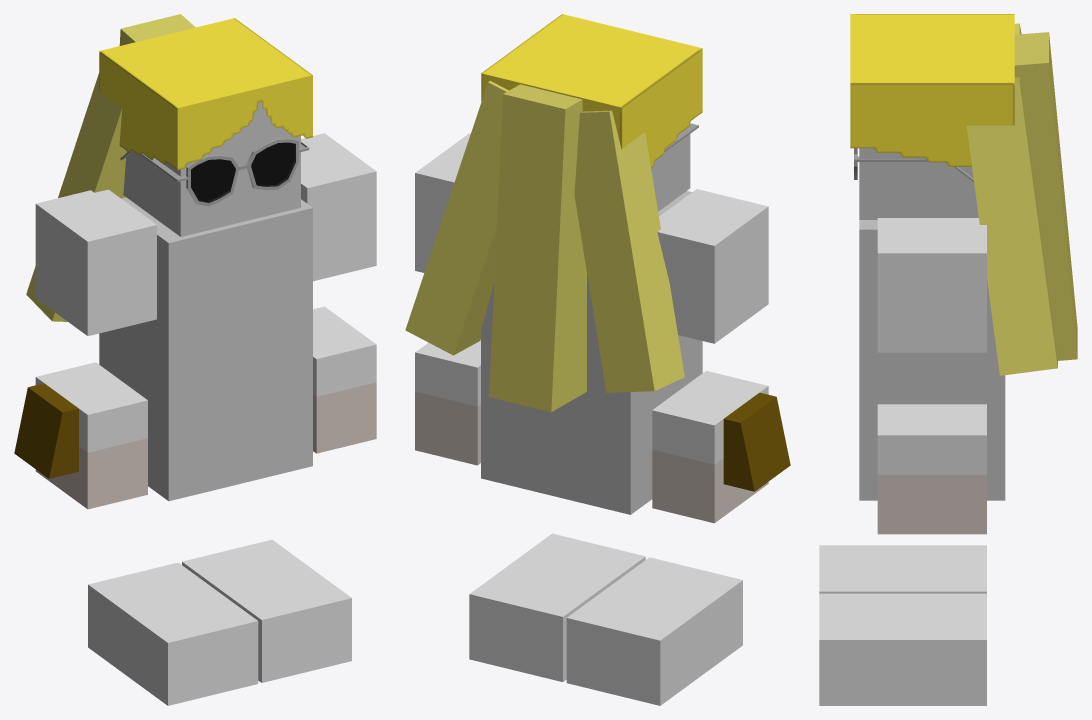
File: gvnr.fbx
The picture shows the model from 3 angles, left to right: view 1: azimuth 30°, elevation 25°; view 2: azimuth 150°, elevation 25°; view 3: azimuth 270°, elevation 25°; orthographic projection. The views are drawn at different scales.
Visible parts, largest first — view 1: Blazer, Hair_Overlay, Foot_R, Shoulder_R, Foot_L, Hand_R, Head, Shoulder_L, Hand_L, Twintail_R, Grappling_Hook_Pouch, Glasses_Glass (+2 smaller); view 2: Ponytail, Twintail_R, Blazer, Foot_R, Hair_Overlay, Foot_L, Twintail_L, Shoulder_R, Hand_R, Hand_L, Grappling_Hook_Pouch, Shoulder_L (+1 smaller); view 3: Hair_Overlay, Foot_L, Twintail_L, Shoulder_L, Hand_L, Blazer, Ponytail, Foot_R, Head, Glasses.
Boxes of the visible parts, x1,y1,x2,y2 form: Blazer: [99, 197, 312, 501]; Hair_Overlay: [99, 18, 312, 170]; Foot_R: [88, 562, 258, 705]; Shoulder_R: [35, 189, 156, 335]; Foot_L: [182, 539, 351, 682]; Hand_R: [35, 362, 147, 509]; Head: [123, 101, 300, 236]; Shoulder_L: [301, 133, 376, 281]; Hand_L: [313, 306, 376, 453]; Twintail_R: [26, 73, 126, 321]; Grappling_Hook_Pouch: [14, 383, 78, 478]; Glasses_Glass: [191, 142, 295, 202]; Ponytail: [489, 84, 586, 412]; Twintail_R: [574, 110, 684, 392]; Blazer: [481, 191, 702, 514]; Foot_R: [566, 557, 742, 705]; Hair_Overlay: [481, 14, 702, 168]; Foot_L: [469, 533, 645, 681]; Twintail_L: [405, 81, 508, 355]; Shoulder_R: [657, 189, 768, 343]; Hand_R: [652, 370, 768, 523]; Hand_L: [415, 339, 480, 465]; Grappling_Hook_Pouch: [723, 392, 790, 491]; Shoulder_L: [415, 133, 470, 272]; Hair_Overlay: [850, 14, 1014, 166]; Foot_L: [819, 593, 986, 705]; Twintail_L: [966, 77, 1057, 375]; Shoulder_L: [877, 218, 986, 352]; Hand_L: [877, 404, 986, 534]; Blazer: [859, 220, 1005, 500]; Ponytail: [1014, 32, 1077, 360]; Foot_R: [819, 545, 986, 593]; Head: [859, 148, 978, 219]; Glasses: [854, 148, 973, 182].
Bounding box in the file's own units: 2.65 × 4.62 × 1.77.
